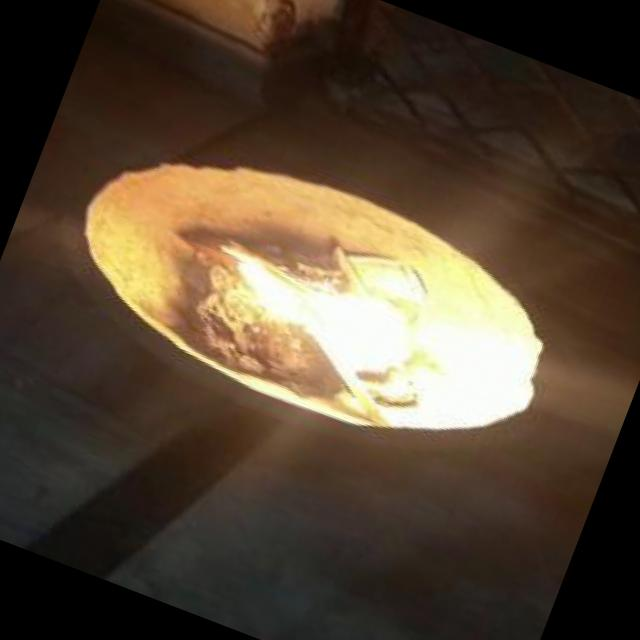fire: (167, 184, 489, 415)
